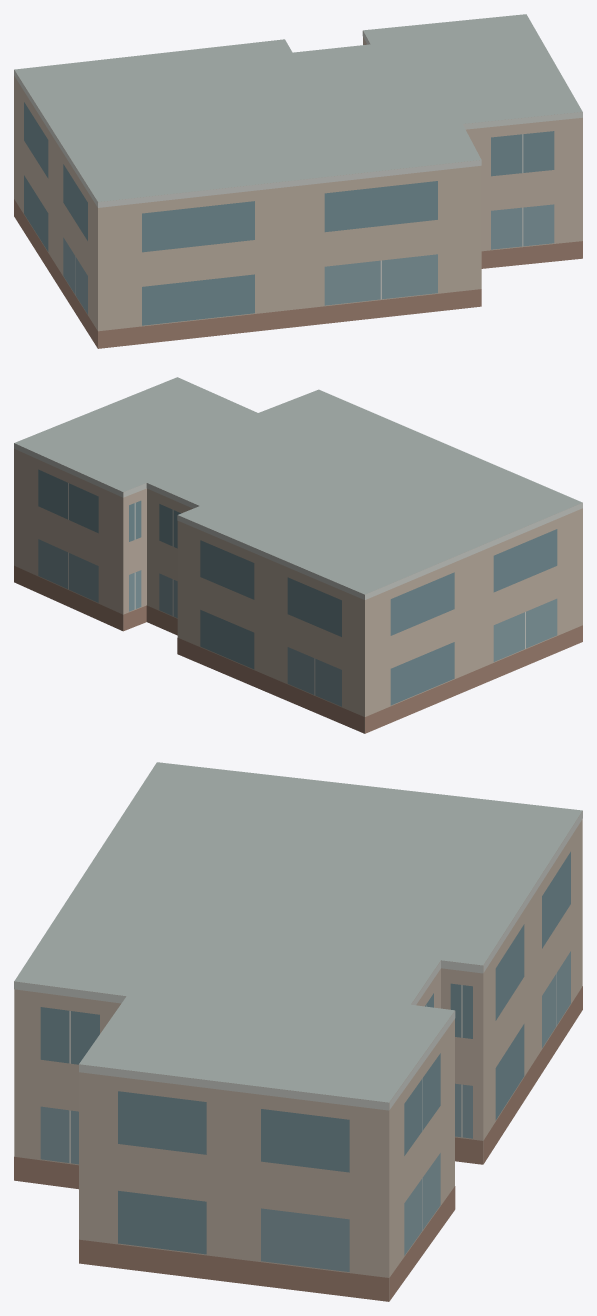
Rendered from survey-upis-32957715.glb.
The picture shows the model from 3 angles, top to bottom: view 1: azimuth 30°, elevation 25°; view 2: azimuth 150°, elevation 25°; view 3: azimuth 270°, elevation 25°; orthographic projection. The views are drawn at different scales.
Visible parts, largest first — view 1: survey-upis-32957715.tmp; view 2: survey-upis-32957715.tmp; view 3: survey-upis-32957715.tmp.
Boxes of the visible parts, x1,y1,x2,y2 form: survey-upis-32957715.tmp: [14, 14, 582, 348]; survey-upis-32957715.tmp: [14, 377, 582, 733]; survey-upis-32957715.tmp: [14, 762, 582, 1301].
Size of the model in its own units: 22.38 by 6.1 by 15.79.
